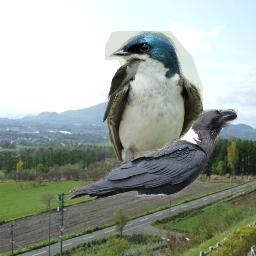Crow: (67, 109, 238, 202)
Cuckoo: (101, 56, 146, 123)
Swallow: (105, 31, 203, 182)
